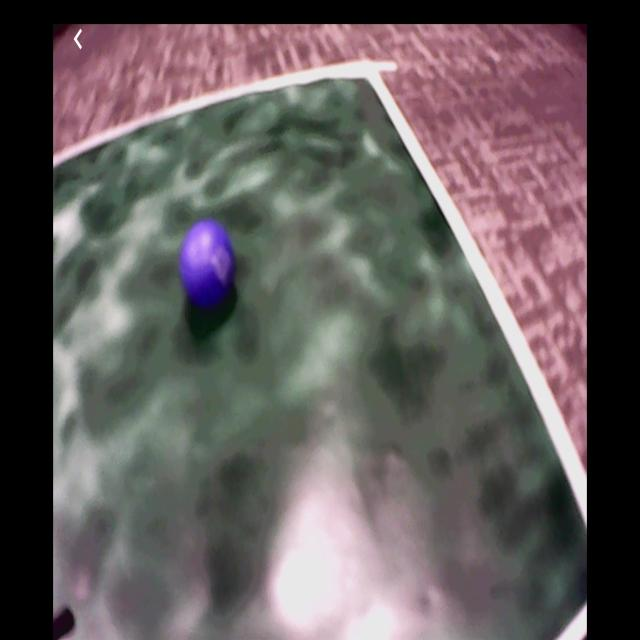ball: (183, 218, 233, 306)
